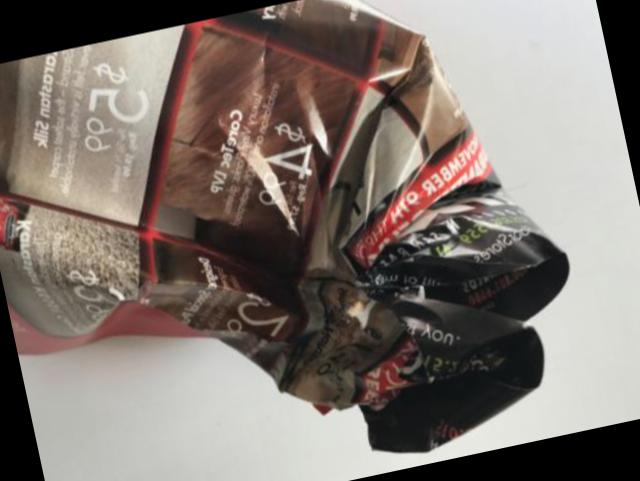cardboard paper: (0, 0, 569, 448)
